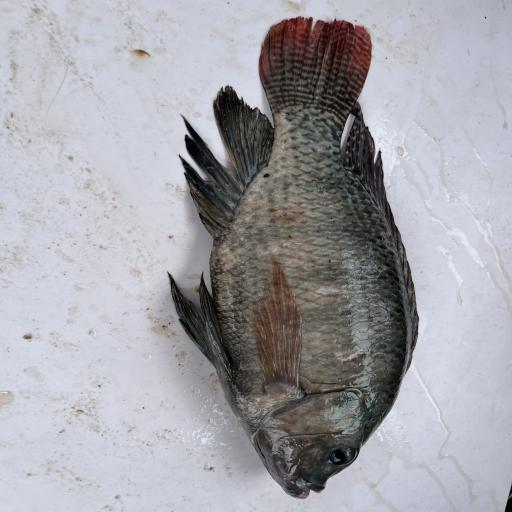Tilapia: (166, 15, 420, 501)
